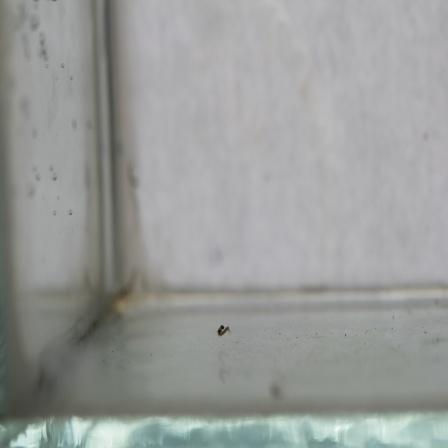Jentik-Nyamuk: (213, 319, 233, 341)
